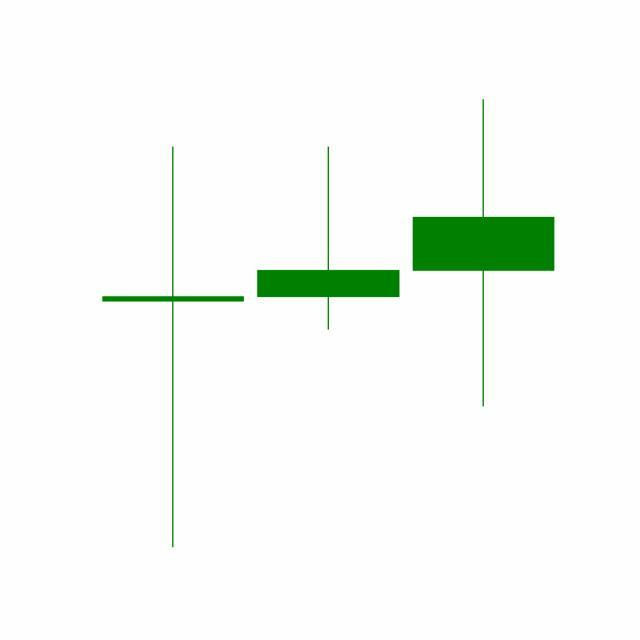Gravestone Doji: (250, 145, 407, 333)
